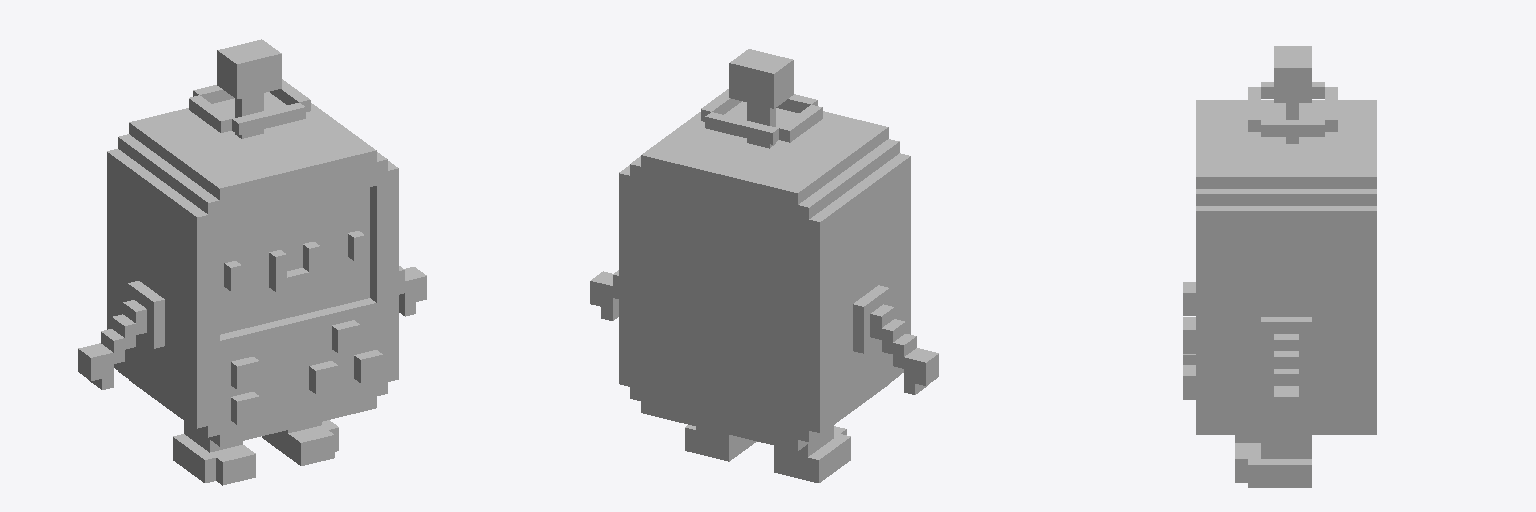
File: Robozinho1.obj
3 renders of one model, left to right at view 1: azimuth 30°, elevation 25°; view 2: azimuth 150°, elevation 25°; view 3: azimuth 270°, elevation 25°, orthographic.
Visible parts, largest first — view 1: object 1; view 2: object 1; view 3: object 1.
Boxes of the visible parts, x1=… form: object 1: x1=78, y1=39, x2=426, y2=485; object 1: x1=590, y1=49, x2=938, y2=482; object 1: x1=1183, y1=46, x2=1376, y2=487.
Bounding box in the file's own units: 3 × 3.4 × 1.5.